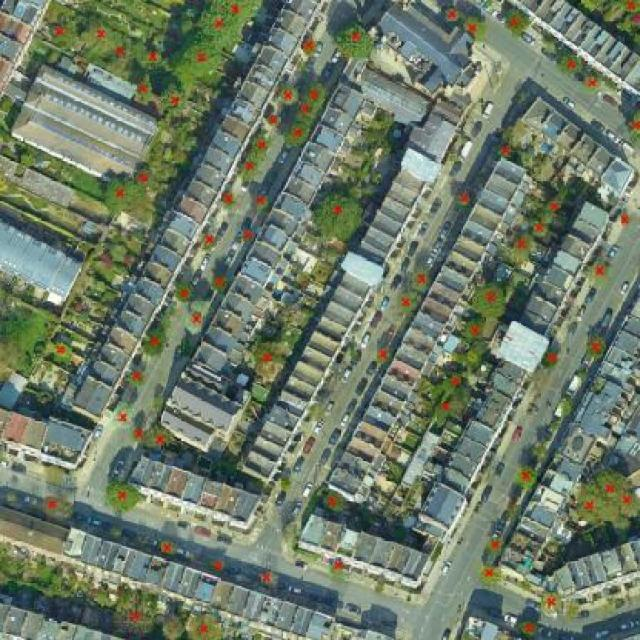tree: (318, 194, 362, 241), (173, 44, 221, 81), (579, 481, 621, 522), (119, 589, 156, 635), (336, 22, 375, 59), (197, 12, 240, 43), (209, 0, 263, 22), (105, 178, 137, 213), (185, 612, 223, 640), (106, 480, 139, 512), (477, 282, 506, 318), (435, 391, 462, 425), (254, 342, 280, 376), (50, 22, 79, 50), (186, 298, 208, 333), (173, 120, 199, 149), (599, 471, 626, 498), (85, 20, 112, 46), (505, 9, 530, 37), (164, 84, 188, 113), (41, 498, 73, 519), (145, 424, 174, 447), (144, 325, 165, 356), (285, 121, 310, 147), (133, 45, 161, 68), (514, 232, 534, 263), (163, 612, 185, 640), (463, 18, 486, 42), (462, 316, 484, 341), (108, 37, 129, 63), (296, 100, 319, 123), (479, 565, 502, 588), (398, 291, 420, 315), (116, 400, 136, 426), (323, 490, 346, 512), (242, 150, 260, 178), (626, 109, 640, 145), (620, 492, 640, 517), (517, 466, 537, 491), (50, 342, 72, 364), (560, 53, 582, 75), (149, 143, 173, 163), (306, 81, 326, 104), (586, 336, 606, 359), (412, 269, 432, 289), (258, 570, 280, 588), (136, 169, 155, 189), (542, 592, 560, 613), (137, 77, 151, 103), (582, 73, 600, 93), (467, 342, 484, 363), (278, 88, 300, 104), (175, 284, 194, 301), (212, 273, 229, 292), (158, 539, 177, 556), (446, 373, 465, 390), (518, 622, 539, 636), (375, 347, 392, 364), (487, 536, 504, 553), (302, 37, 318, 55), (330, 558, 345, 577), (613, 516, 632, 530), (253, 137, 270, 152), (443, 7, 460, 22), (542, 351, 558, 366), (534, 446, 549, 462), (577, 0, 597, 12), (202, 232, 216, 249), (540, 208, 554, 224), (533, 221, 547, 237), (255, 195, 269, 210), (130, 370, 144, 385), (629, 9, 640, 28), (222, 191, 235, 207), (499, 142, 512, 158), (623, 0, 640, 12), (211, 559, 225, 573), (458, 193, 472, 207), (548, 199, 562, 213), (592, 265, 606, 278), (267, 115, 281, 127), (134, 429, 146, 443), (110, 527, 124, 539), (373, 581, 385, 595), (562, 398, 571, 416), (242, 229, 253, 243), (620, 212, 631, 226), (550, 419, 561, 430), (579, 372, 588, 383), (483, 0, 495, 8)
